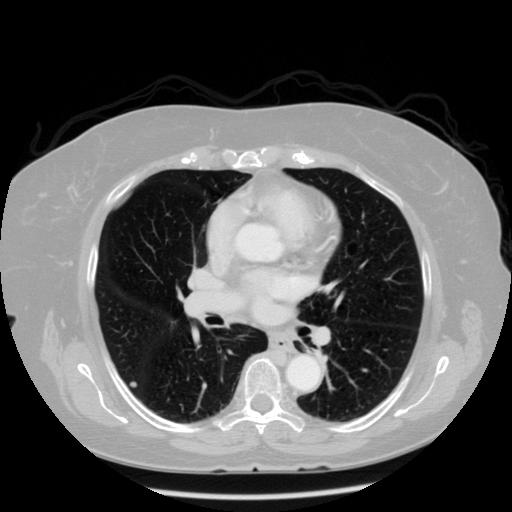nodule: (127, 378, 139, 390)
